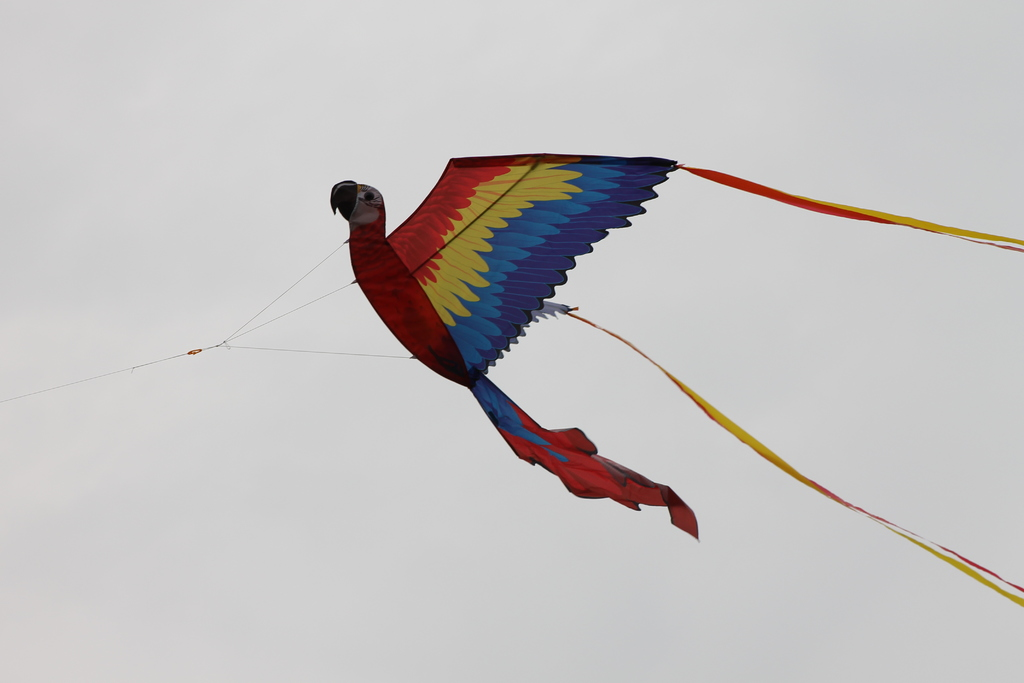kite: (296, 150, 1024, 628)
